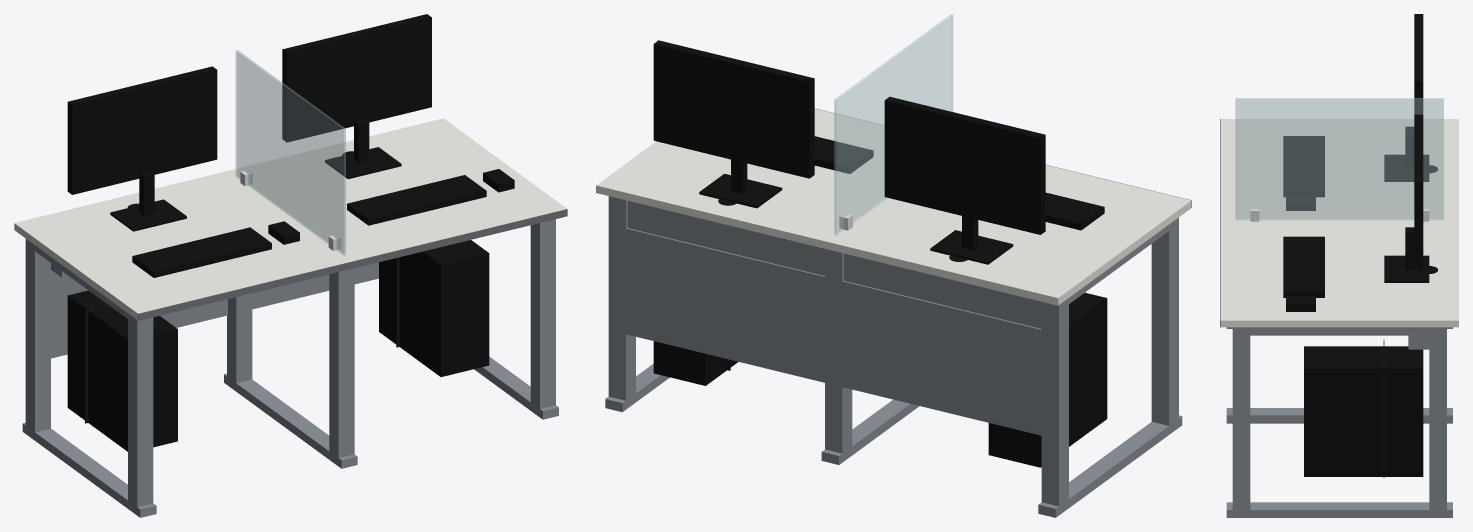
Rendered from 093_computer_workstation_table.glb.
3 renders of one model, left to right at view 1: azimuth 30°, elevation 25°; view 2: azimuth 150°, elevation 25°; view 3: azimuth 270°, elevation 25°, orthographic. The views are drawn at different scales.
Visible parts, largest first — view 1: 000_worktop, 020_monitor, 026_monitor, 016_privacy_divider, 034_cpu_tower, 032_cpu_tower, 003_panel_leg, 007_panel_leg, 011_panel_leg, 002_panel_leg, 015_modesty_panel, 029_keyboard (+10 smaller); view 2: 015_modesty_panel, 000_worktop, 020_monitor, 026_monitor, 016_privacy_divider, 014_wire_trough, 032_cpu_tower, 002_panel_leg, 003_panel_leg, 010_panel_leg, 006_panel_leg, 004_leg_foot (+8 smaller); view 3: 000_worktop, 016_privacy_divider, 034_cpu_tower, 011_panel_leg, 010_panel_leg, 012_leg_foot, 029_keyboard, 023_keyboard, 013_leg_top_rail, 026_monitor, 008_leg_foot, 028_monitor_stand_foot (+7 smaller).
Boxes of the visible parts, x1,y1,x2,y2 form: 000_worktop: [14, 118, 566, 320]; 020_monitor: [67, 66, 217, 194]; 026_monitor: [282, 14, 431, 142]; 016_privacy_divider: [235, 49, 345, 255]; 034_cpu_tower: [379, 240, 489, 376]; 032_cpu_tower: [67, 290, 177, 451]; 003_panel_leg: [128, 313, 153, 514]; 007_panel_leg: [329, 268, 354, 466]; 011_panel_leg: [530, 219, 555, 417]; 002_panel_leg: [25, 239, 50, 440]; 015_modesty_panel: [51, 262, 378, 358]; 029_keyboard: [347, 175, 486, 225]; 015_modesty_panel: [626, 228, 1041, 435]; 000_worktop: [596, 108, 1191, 305]; 020_monitor: [884, 96, 1045, 234]; 026_monitor: [653, 40, 814, 178]; 016_privacy_divider: [834, 14, 953, 235]; 014_wire_trough: [627, 201, 1041, 328]; 032_cpu_tower: [988, 292, 1107, 467]; 002_panel_leg: [1041, 298, 1068, 508]; 003_panel_leg: [1151, 217, 1178, 434]; 010_panel_leg: [608, 196, 635, 409]; 006_panel_leg: [825, 249, 852, 453]; 004_leg_foot: [1038, 415, 1182, 517]; 000_worktop: [1220, 119, 1458, 327]; 016_privacy_divider: [1235, 98, 1443, 219]; 034_cpu_tower: [1304, 346, 1423, 476]; 011_panel_leg: [1232, 327, 1250, 517]; 010_panel_leg: [1429, 327, 1446, 517]; 012_leg_foot: [1226, 502, 1452, 517]; 029_keyboard: [1283, 236, 1324, 297]; 023_keyboard: [1283, 136, 1324, 197]; 013_leg_top_rail: [1250, 327, 1429, 335]; 026_monitor: [1414, 114, 1423, 269]; 008_leg_foot: [1226, 408, 1452, 423]; 028_monitor_stand_foot: [1384, 255, 1429, 282].
Size of the model in its own units: 1.6 by 1.19 by 0.802.
